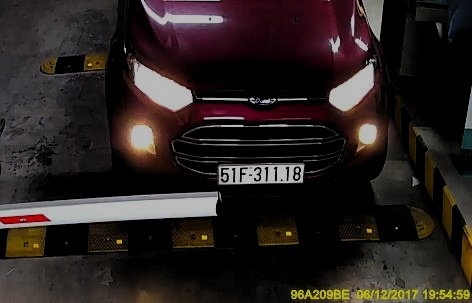plate: (215, 162, 302, 187)
